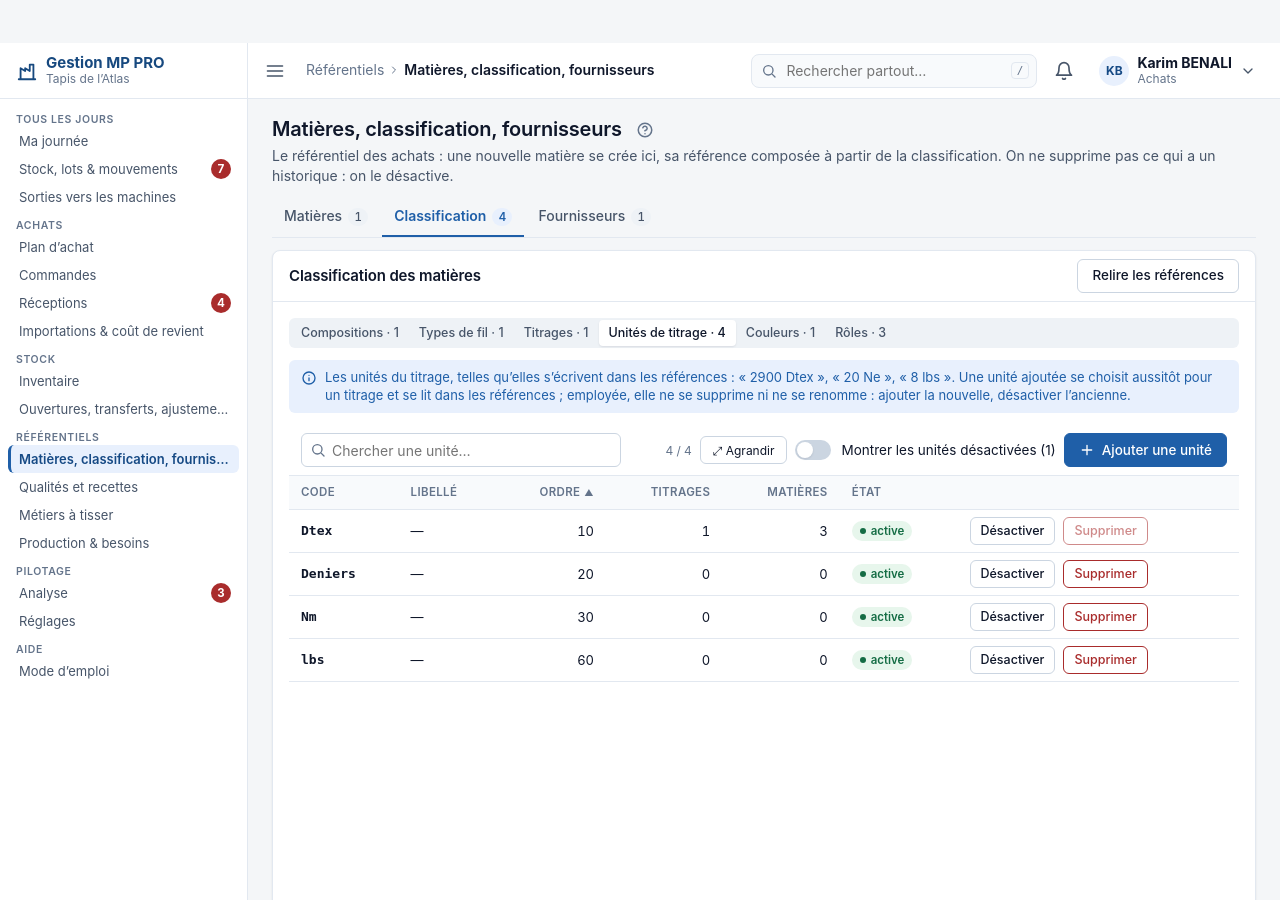
Test case: Unités de titrage › le champ « Unité » d’un titrage propose l’unité ajoutée, pas l’unité désactivée
(page scrolled)
Click the button "Ajouter une unité" at (1145, 450), box [1064,433,1227,467]
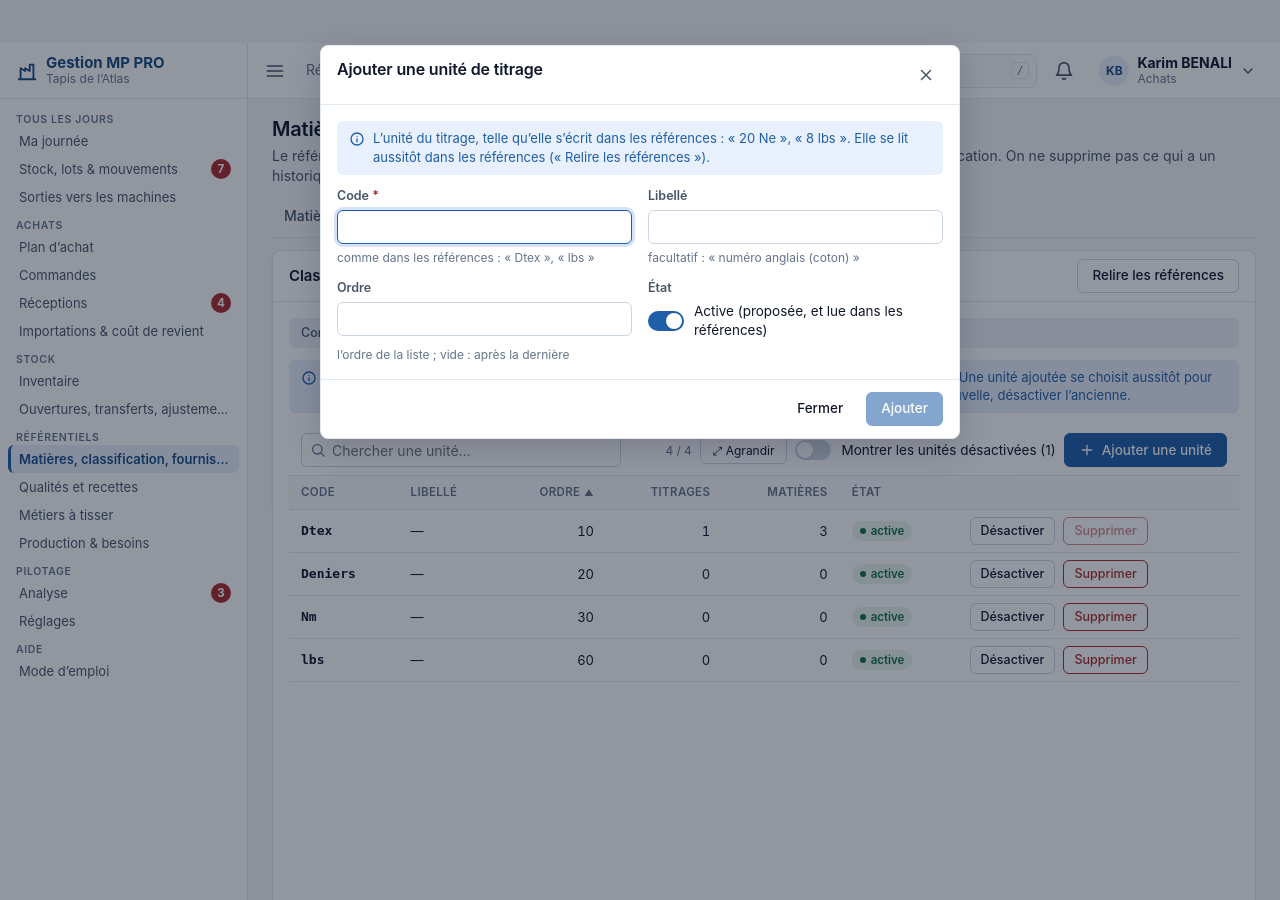
Type "Ne" into the field labelled "Code" at (484, 227), box [337,210,632,244]
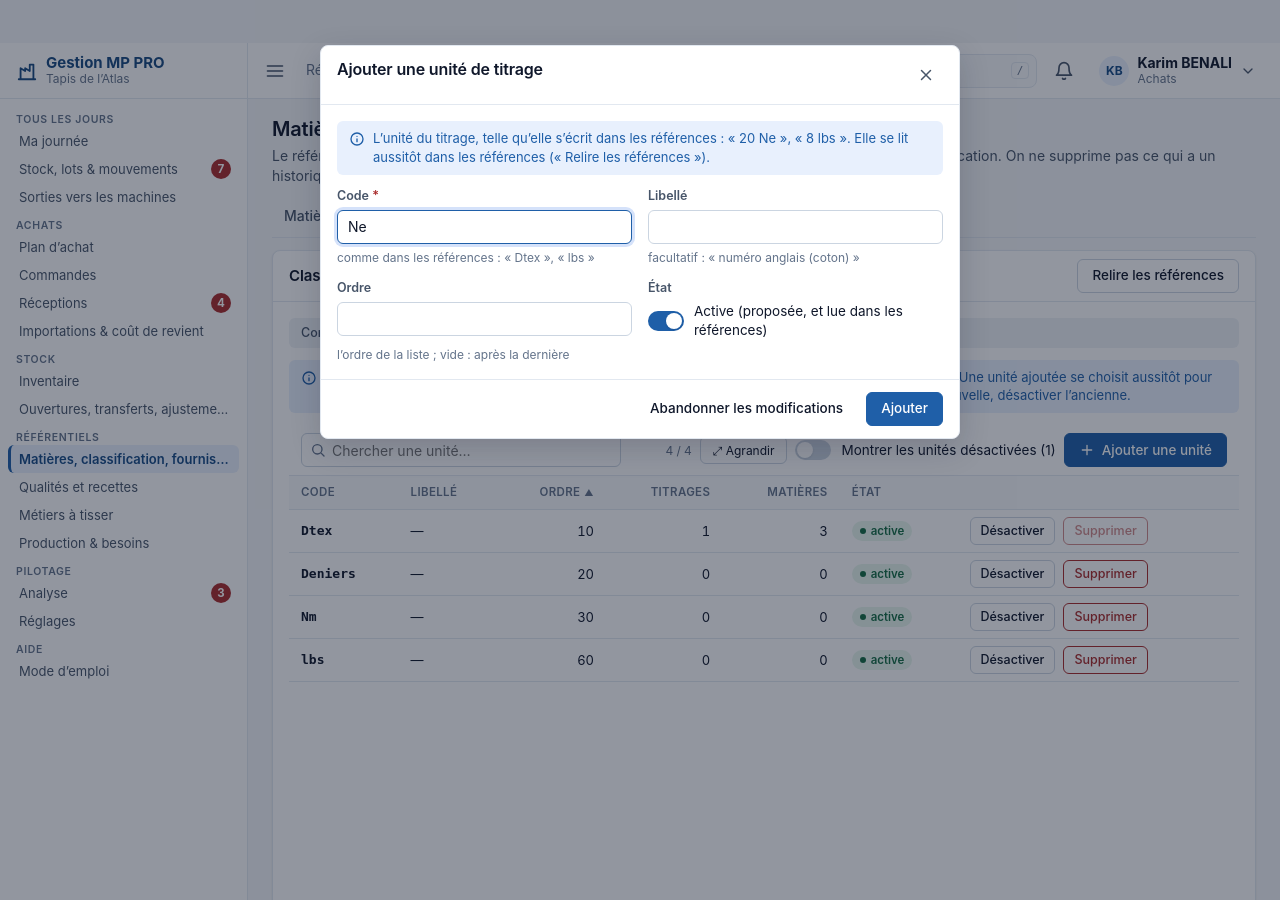
Click the button "Ajouter" at (905, 409), box [866,392,943,426]
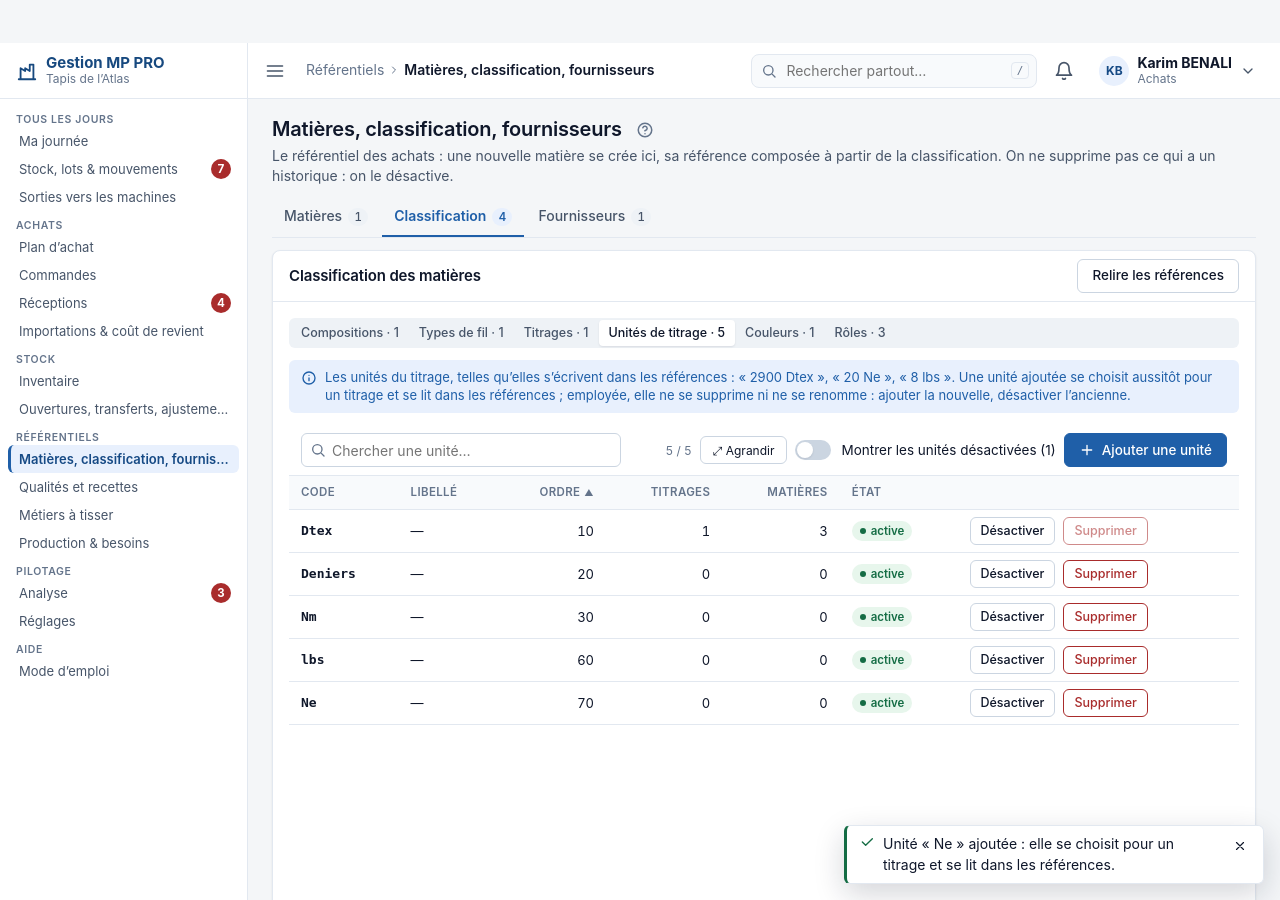
Expected: the dialog is gone
Click the button "Titrages · 1" at (556, 333), box [514,320,599,346]
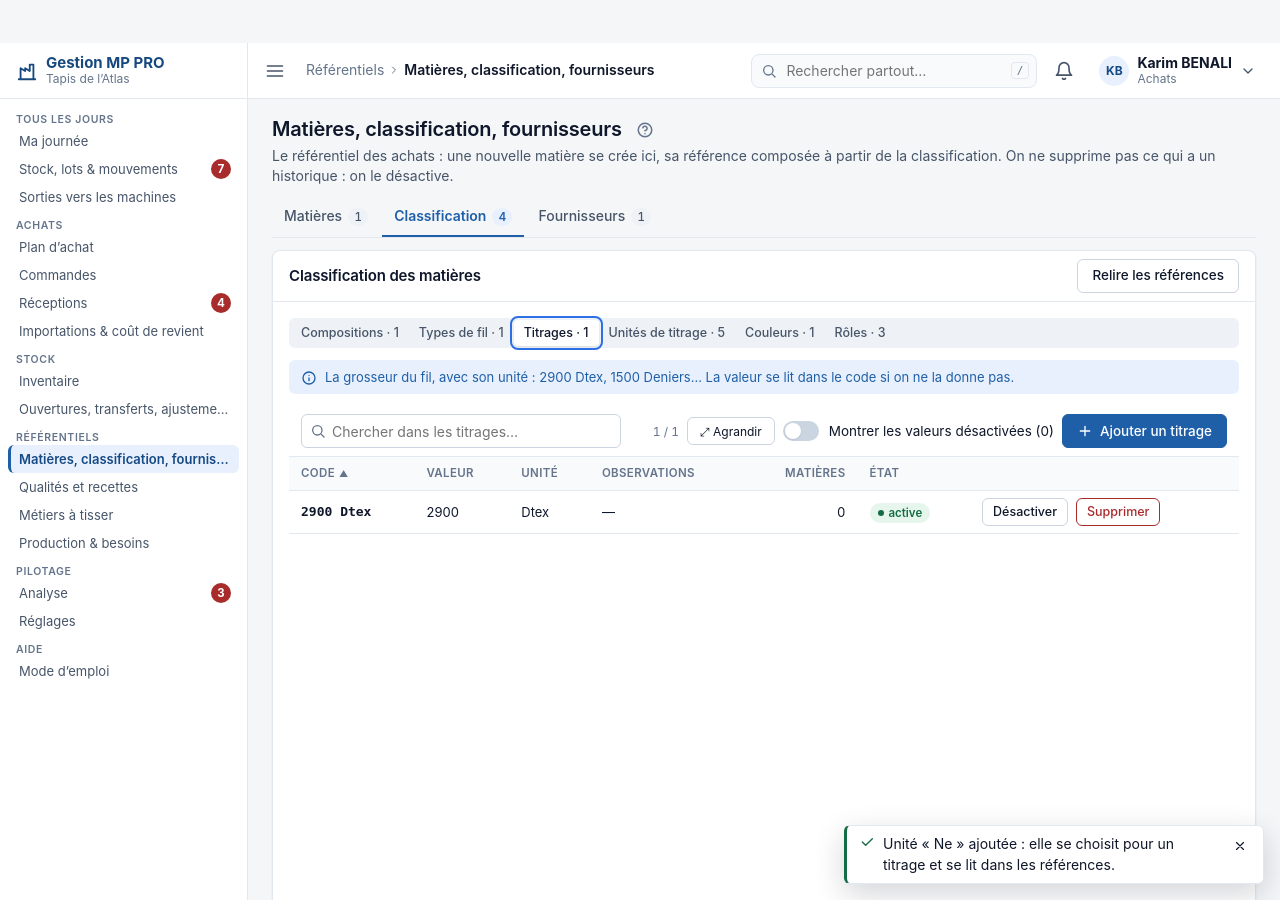
Click the button "Ajouter un titrage" at (1144, 431), box [1062,414,1227,448]
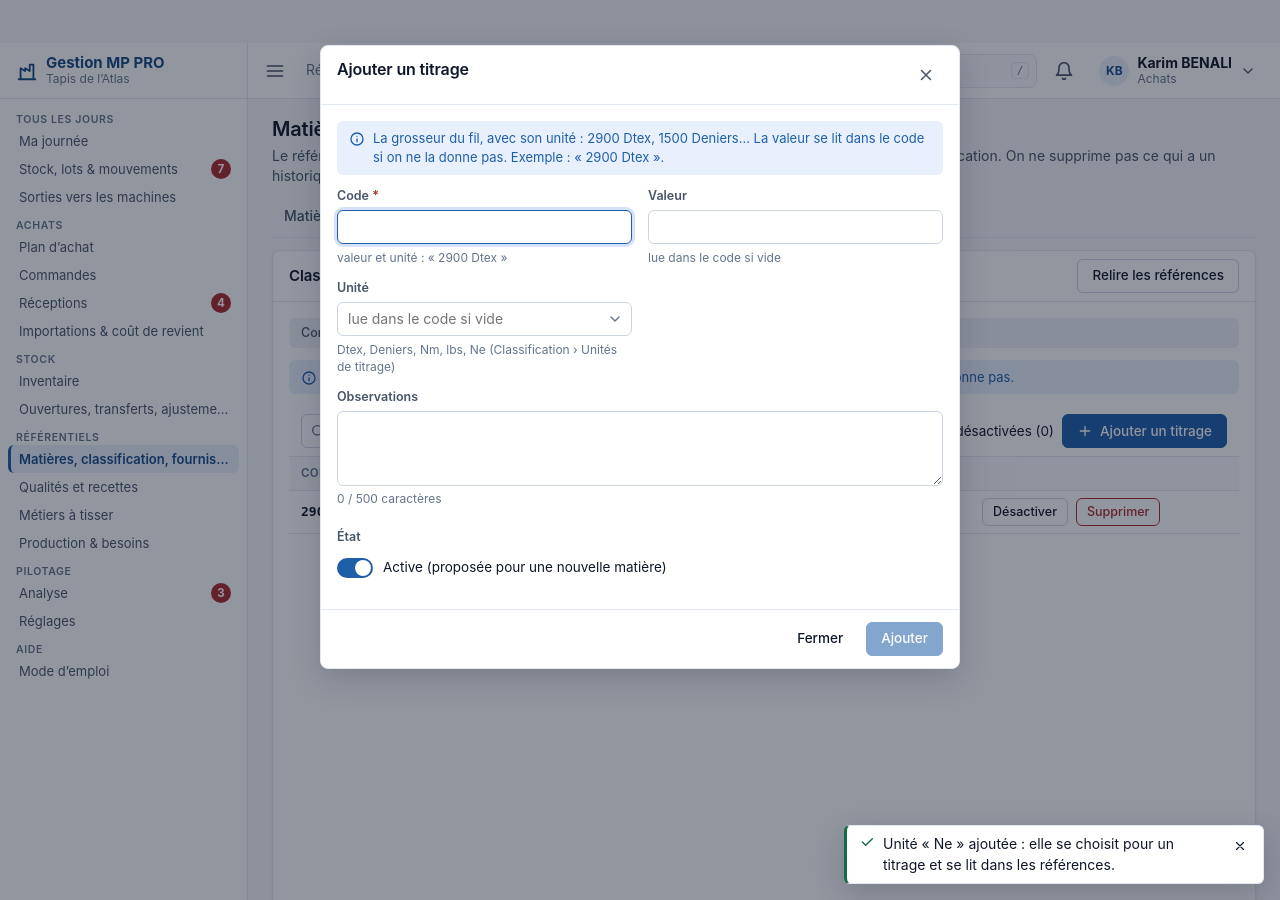
Click the dropdown labelled "Unité" at (484, 319), box [337,302,632,336]
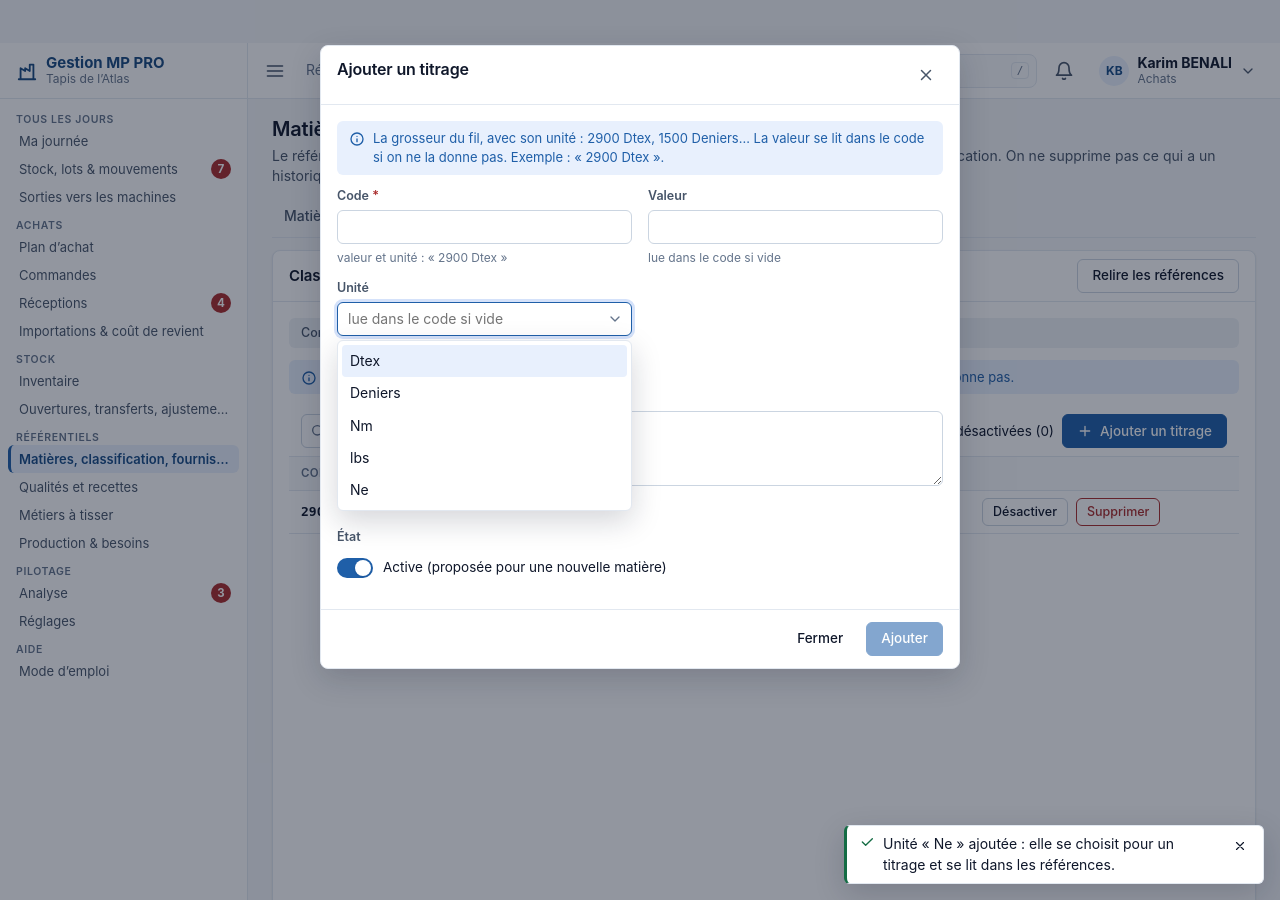
Expected: the options read "Dtex", "Deniers", "Nm", "lbs", "Ne", in this order, [342,345,627,377]; [350,384,401,401]; [350,416,373,434]; [350,449,369,466]; [350,481,369,498]
